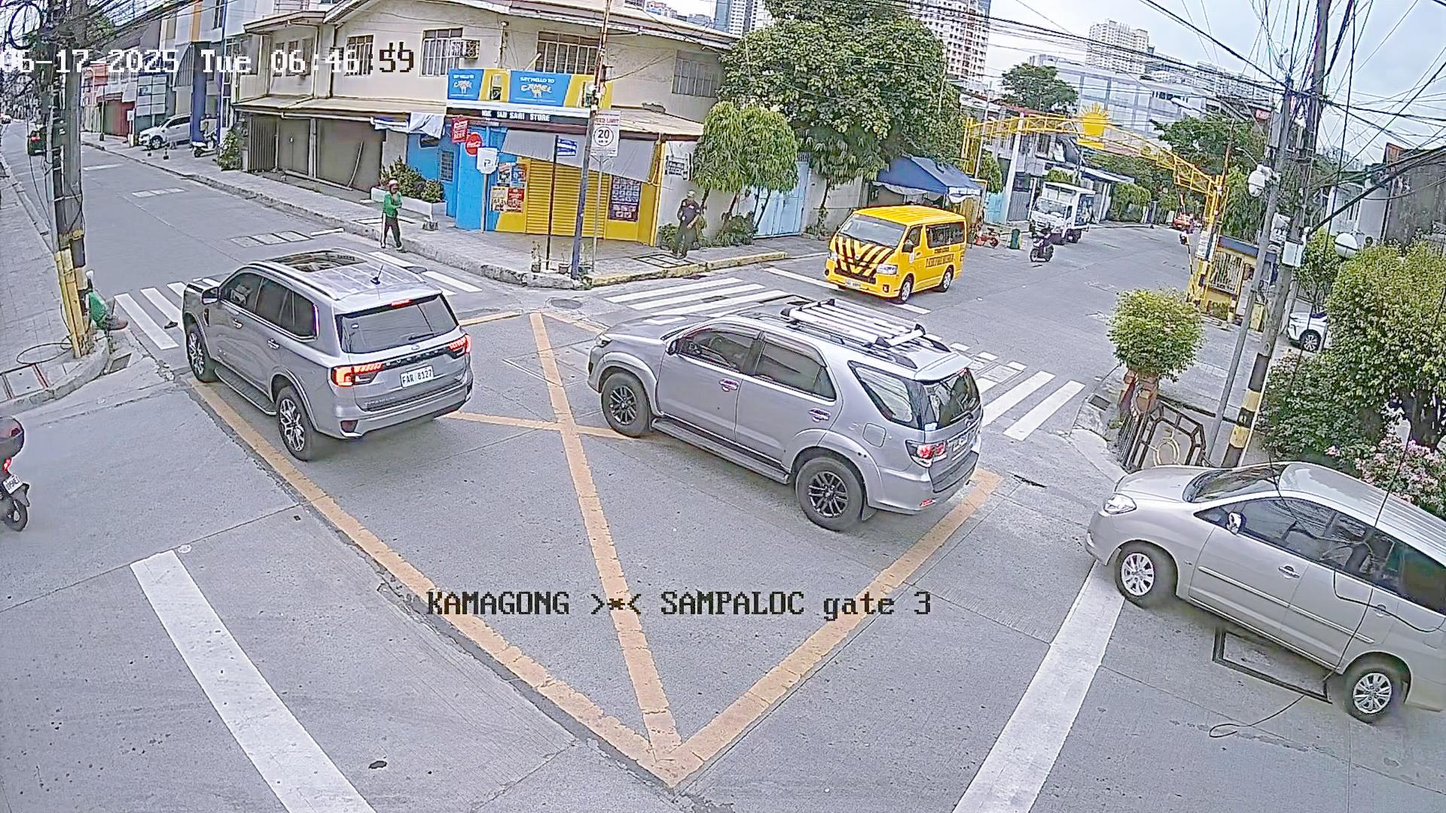Car: (1080, 389, 1444, 744), (575, 274, 996, 548), (160, 196, 491, 428), (812, 176, 972, 309), (1025, 182, 1100, 249)
